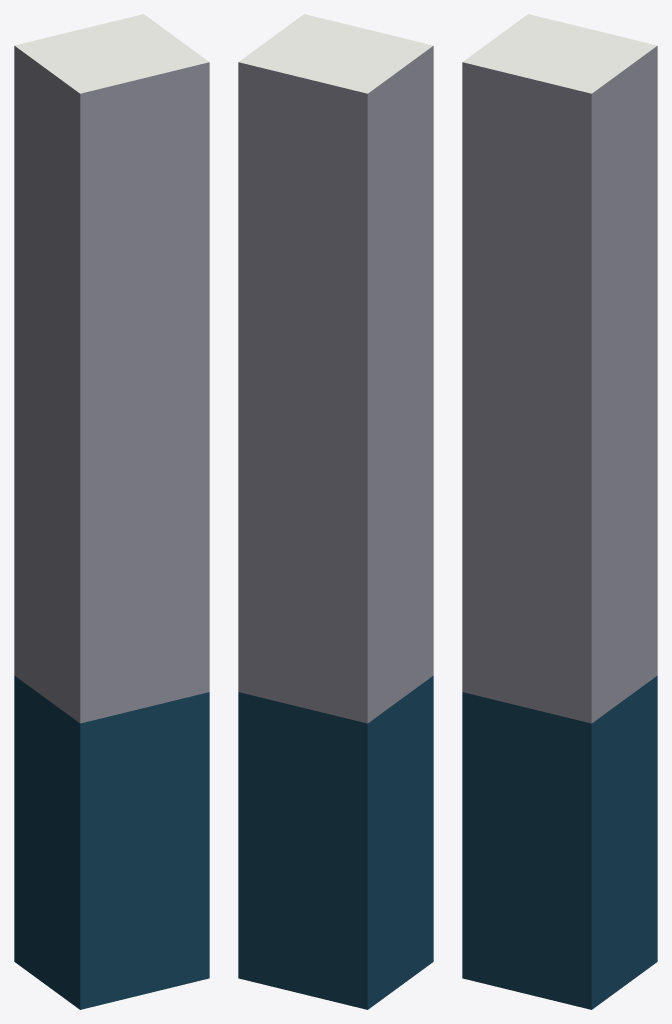
Rendered from wall.fbx.
3 views of the same model, side by side, from view 1: azimuth 30°, elevation 25°; view 2: azimuth 150°, elevation 25°; view 3: azimuth 330°, elevation 25° (orthographic).
Visible parts, largest first — view 1: wall.001; view 2: wall.001; view 3: wall.001.
Boxes of the visible parts, x1,y1,x2,y2 form: wall.001: (14, 14, 209, 1009); wall.001: (238, 14, 433, 1009); wall.001: (462, 14, 657, 1009).
Bounding box in the file's own units: 39.8 × 35.05 × 269.
1 material, 1 textured.
